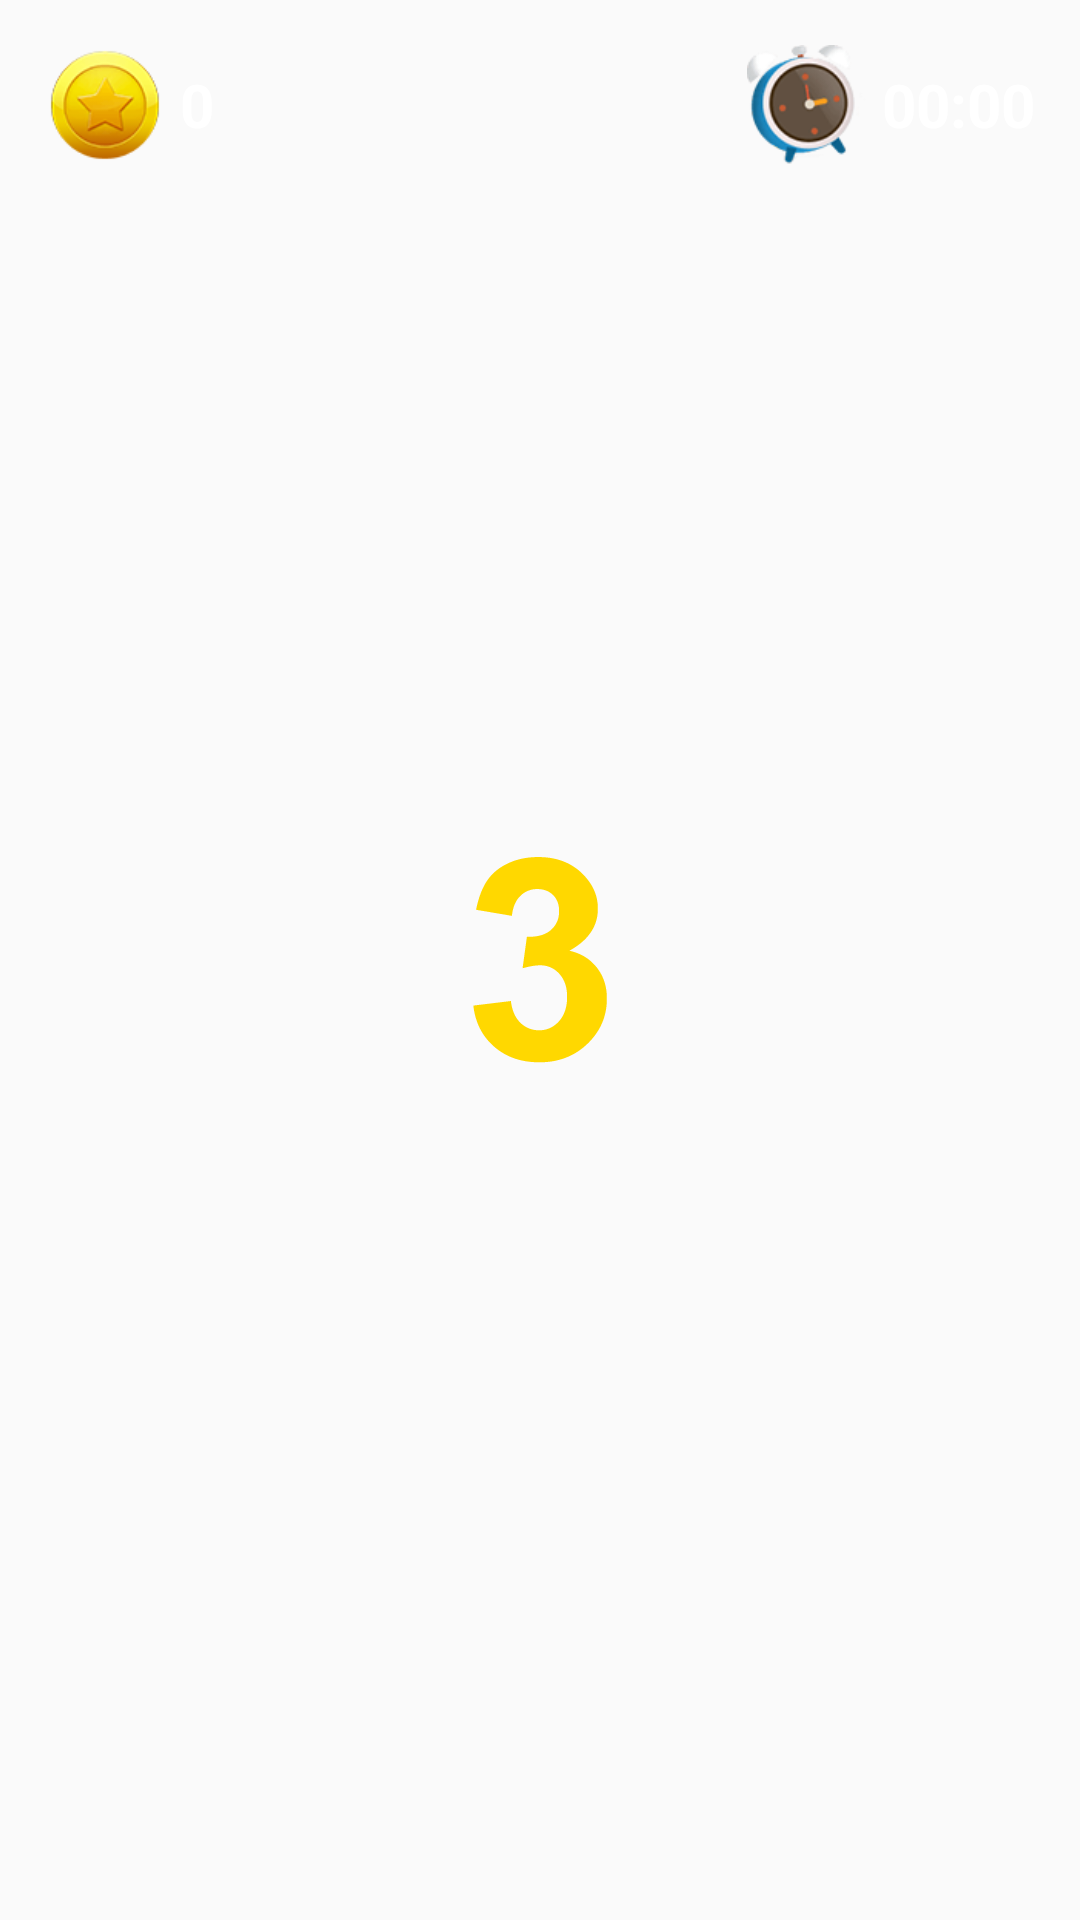

Screen size 1080×1920. Icon name, then its box in pixels as (x1, y1, x2, y2):
coin little: (51, 51, 159, 159)
time: (747, 45, 854, 164)
